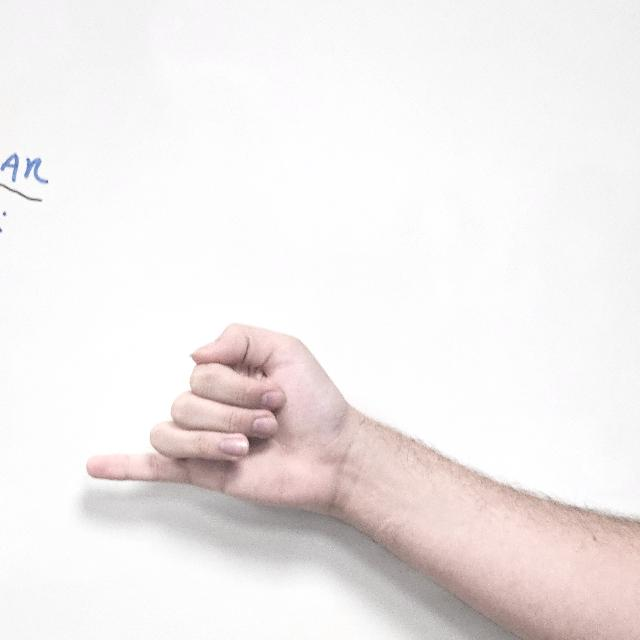Esquerda: (82, 262, 362, 542)
